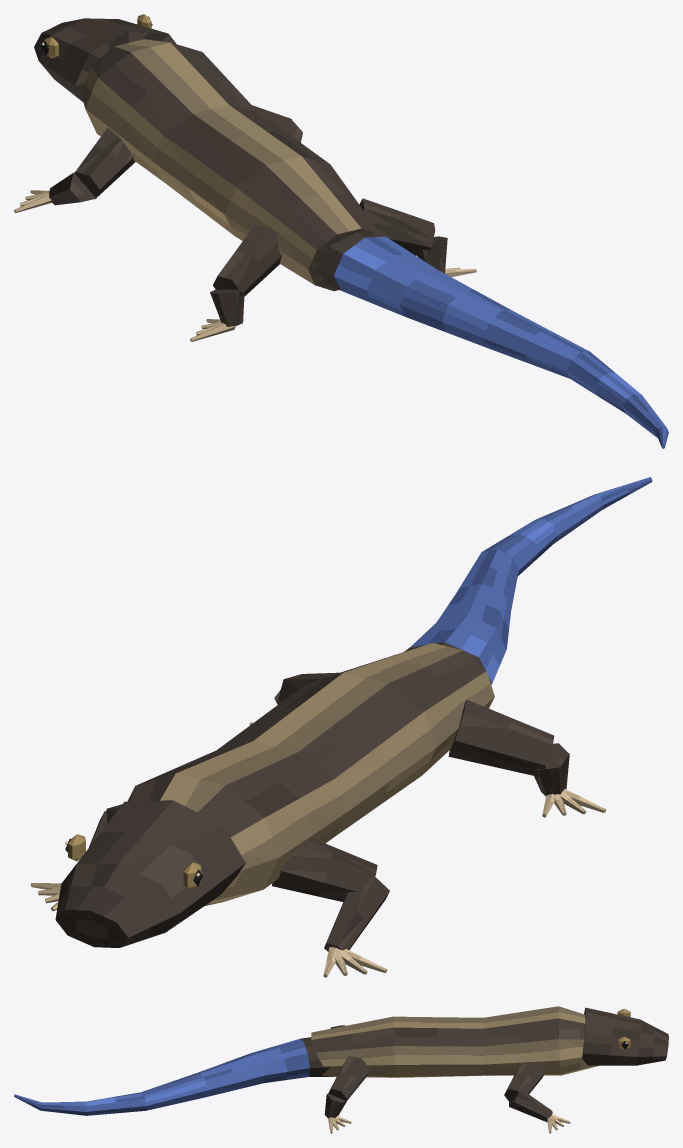
The model's file is mon_skink_fivelined_baby.glb.
3 renders of one model, top to bottom at view 1: azimuth 30°, elevation 25°; view 2: azimuth 150°, elevation 25°; view 3: azimuth 270°, elevation 25°, orthographic. The views are drawn at different scales.
Visible parts, largest first — view 1: closed_body; view 2: closed_body; view 3: closed_body.
Boxes of the visible parts, x1,y1,x2,y2 form: closed_body: (14, 14, 668, 448); closed_body: (30, 477, 652, 977); closed_body: (14, 1006, 668, 1133).
Size of the model in its own units: 0.0364 by 0.0153 by 0.1162.
1 material, 1 textured.
